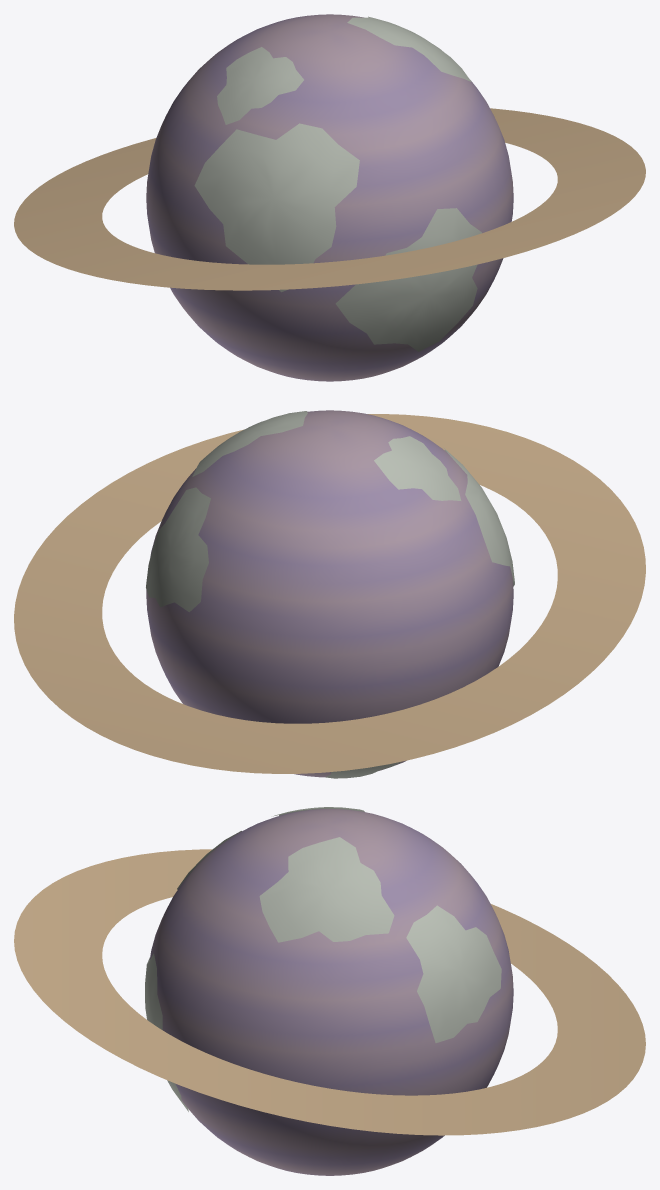
File: planet_03.glb
The picture shows the model from 3 angles, top to bottom: view 1: azimuth 30°, elevation 25°; view 2: azimuth 150°, elevation 25°; view 3: azimuth 270°, elevation 25°; orthographic projection.
Parts seen in each view (by area): view 1: planet_03_painted_mesh; view 2: planet_03_painted_mesh; view 3: planet_03_painted_mesh.
Boxes of the visible parts, left/top/right/bottom form: planet_03_painted_mesh: left=14, top=14, right=645, bottom=381; planet_03_painted_mesh: left=14, top=410, right=645, bottom=778; planet_03_painted_mesh: left=14, top=807, right=645, bottom=1175.
Size of the model in its own units: 3.44 by 2 by 3.44.
